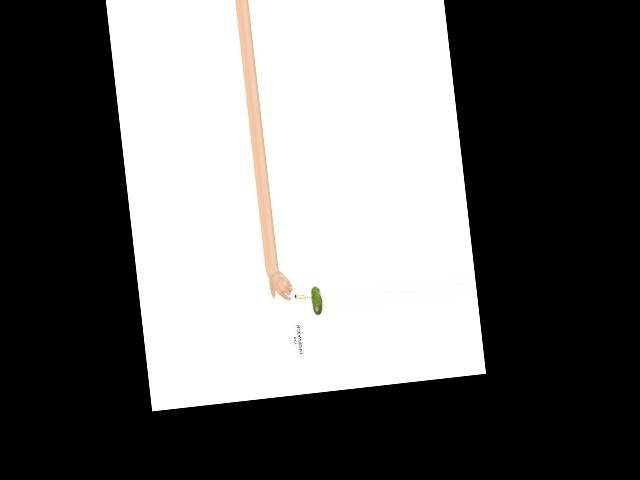cucumber: (310, 285, 323, 315)
